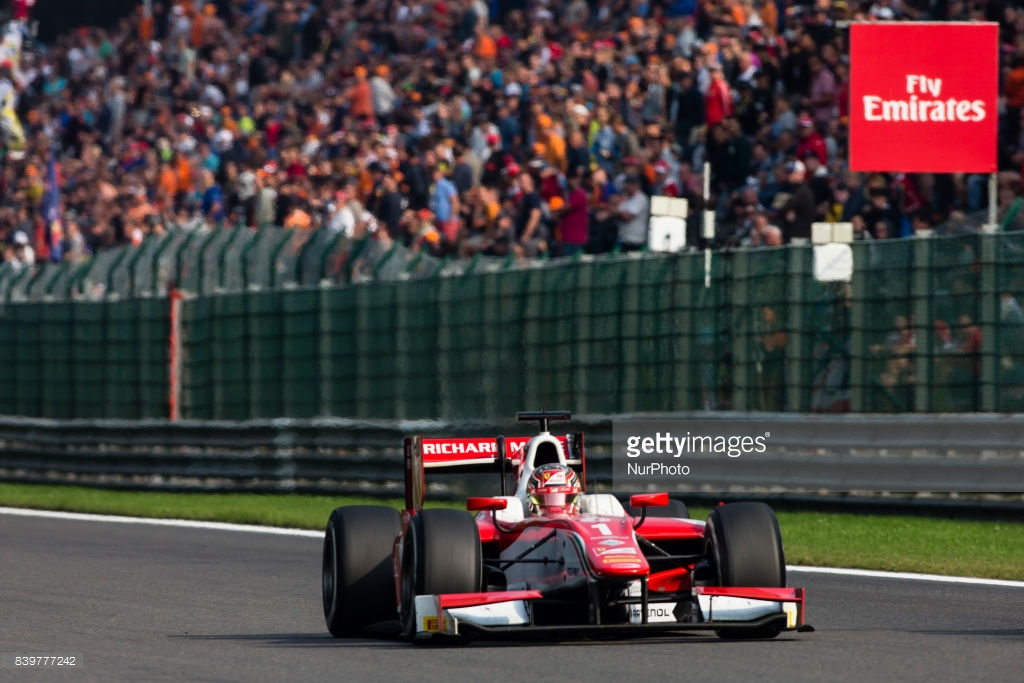race car: (320, 409, 809, 646)
